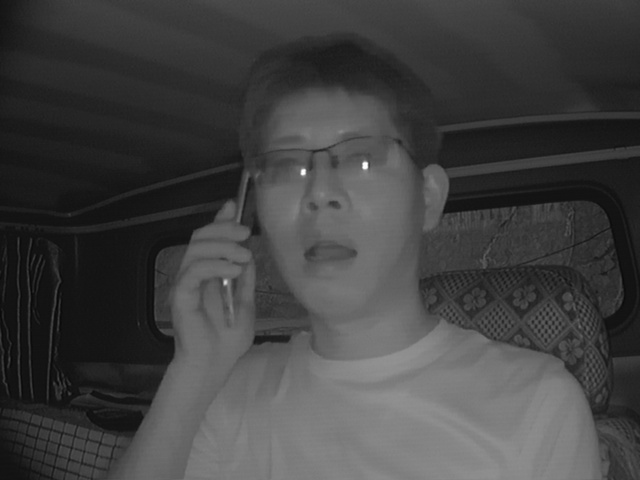hand: (161, 197, 259, 371)
